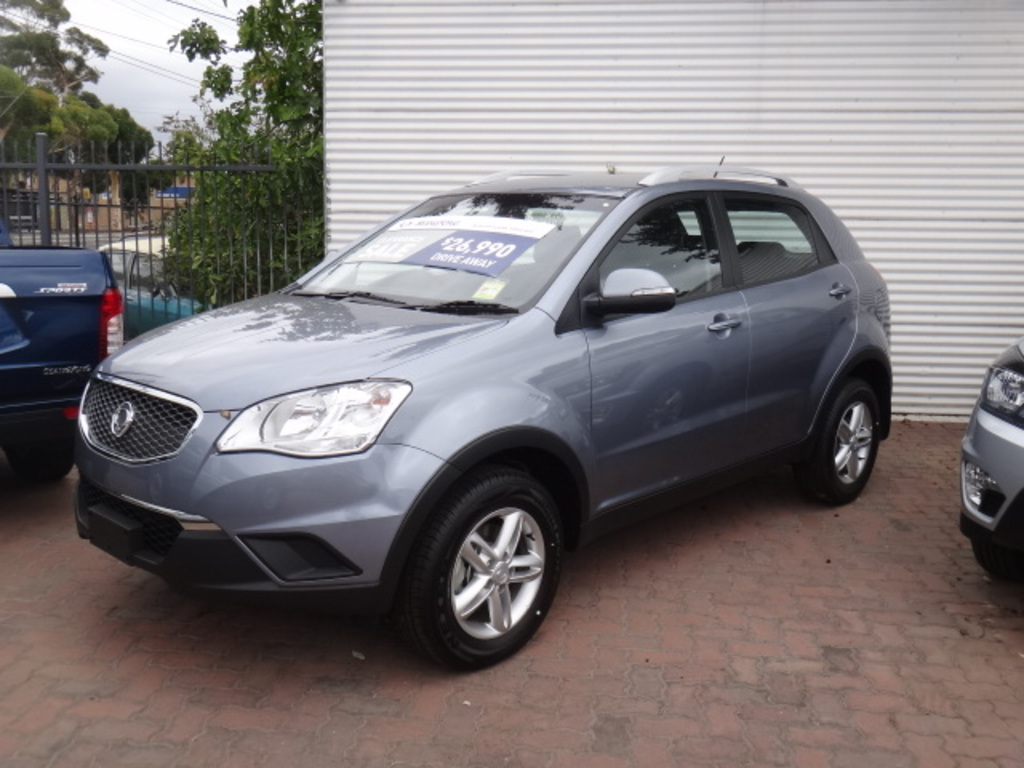cars: (73, 161, 897, 673), (0, 225, 126, 481), (958, 341, 1022, 587), (106, 230, 212, 343)
